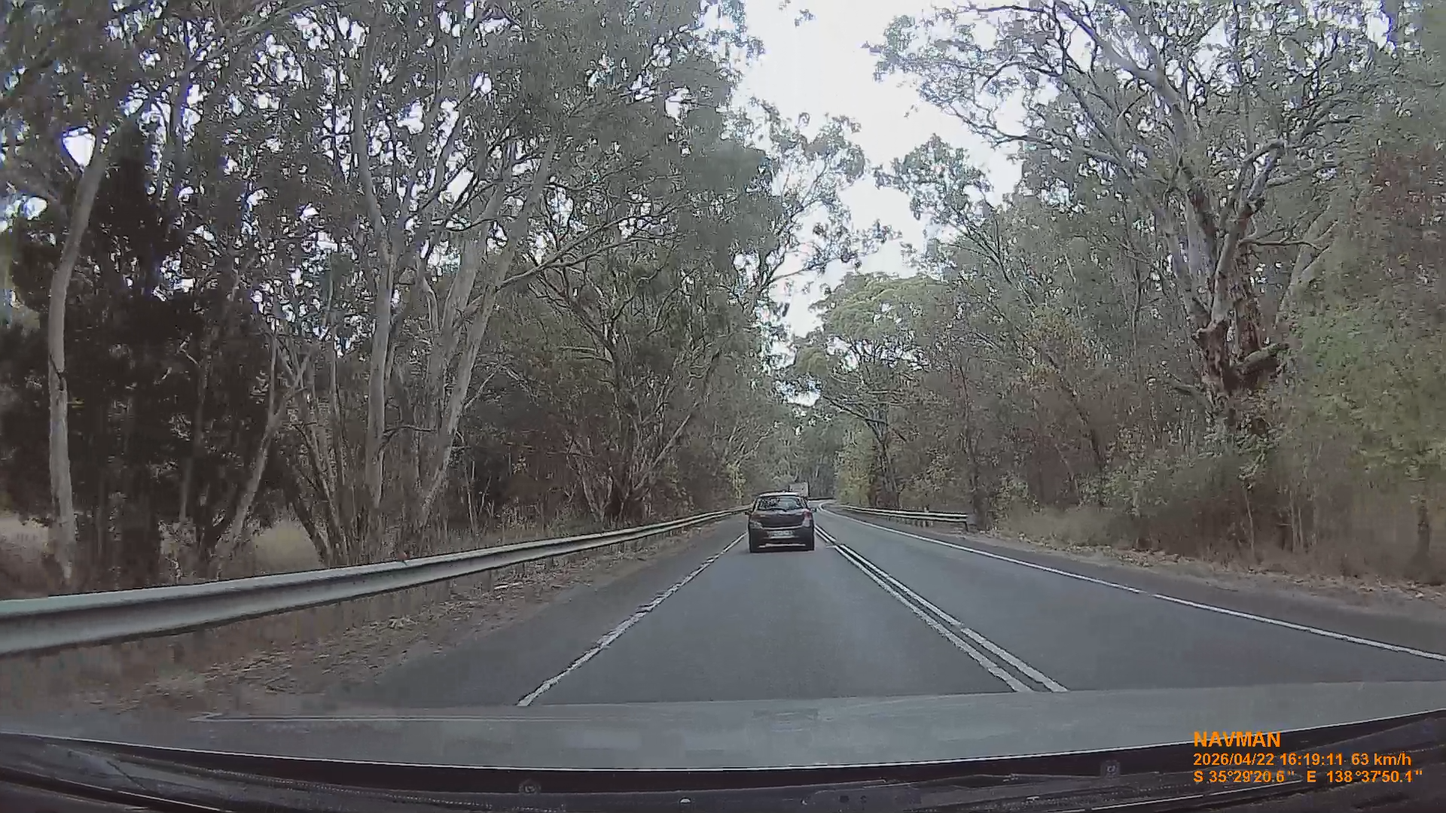road barriers: (0, 511, 731, 658), (859, 521, 1445, 666), (838, 507, 975, 533)
